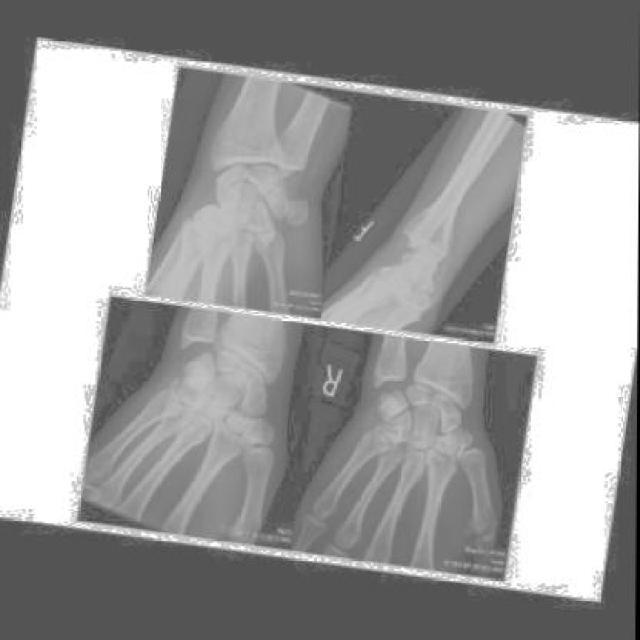Fracture: (191, 206, 221, 234), (162, 377, 190, 406), (385, 425, 405, 448), (374, 266, 392, 283)
